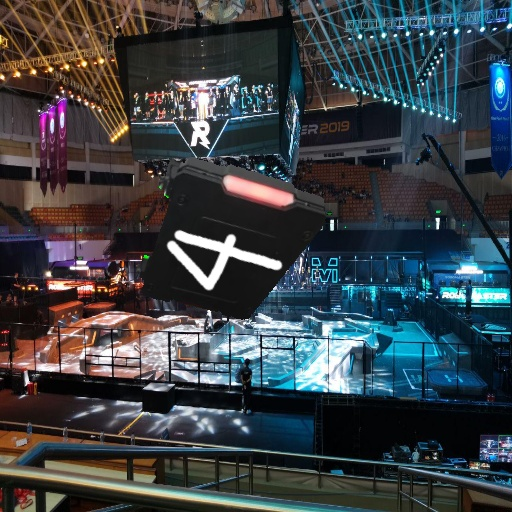red: (137, 158, 324, 318)
